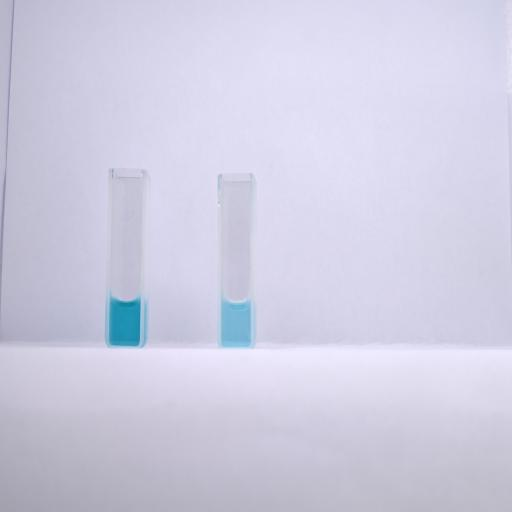cuvette: (104, 165, 148, 351), (216, 170, 257, 351)
liquid: (110, 298, 140, 346), (222, 300, 250, 345)
